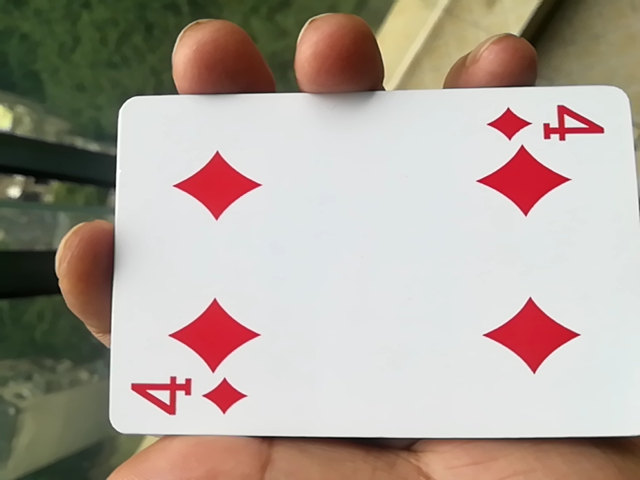fk 4: (87, 96, 636, 455)
